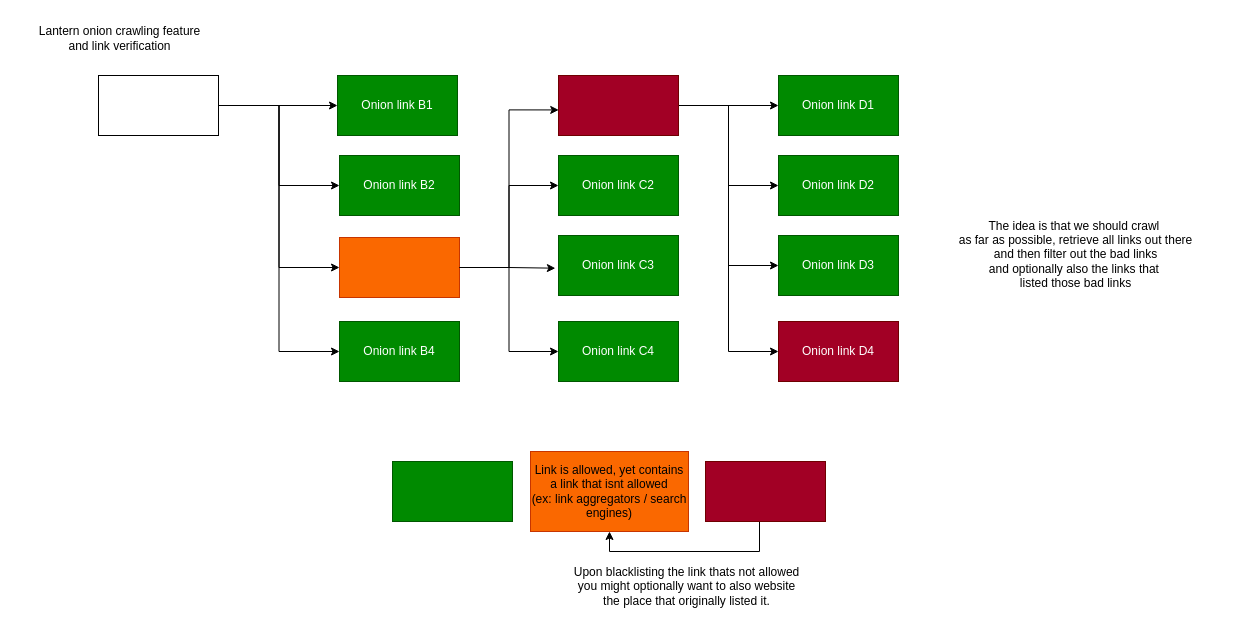
Some shapes in this 1234 by 630 pixel diagram are drawn without their labels. Here are the shapes that lost their labels. From the top down, the centre of each, then its label:
At point (158, 105): "Onion link A".
At point (618, 105): "Onion link C1".
At point (399, 267): "Onion link B3".
At point (452, 491): "Link is allowed (ex: blog)".
At point (765, 491): "Link is not allowed (ex: porn)".
